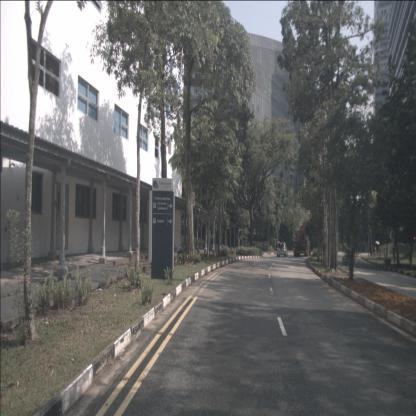human-pedestrian-adult: (375, 242, 380, 258)
vehicle-car: (276, 242, 288, 257)
vehicle-truck: (293, 232, 311, 257)
